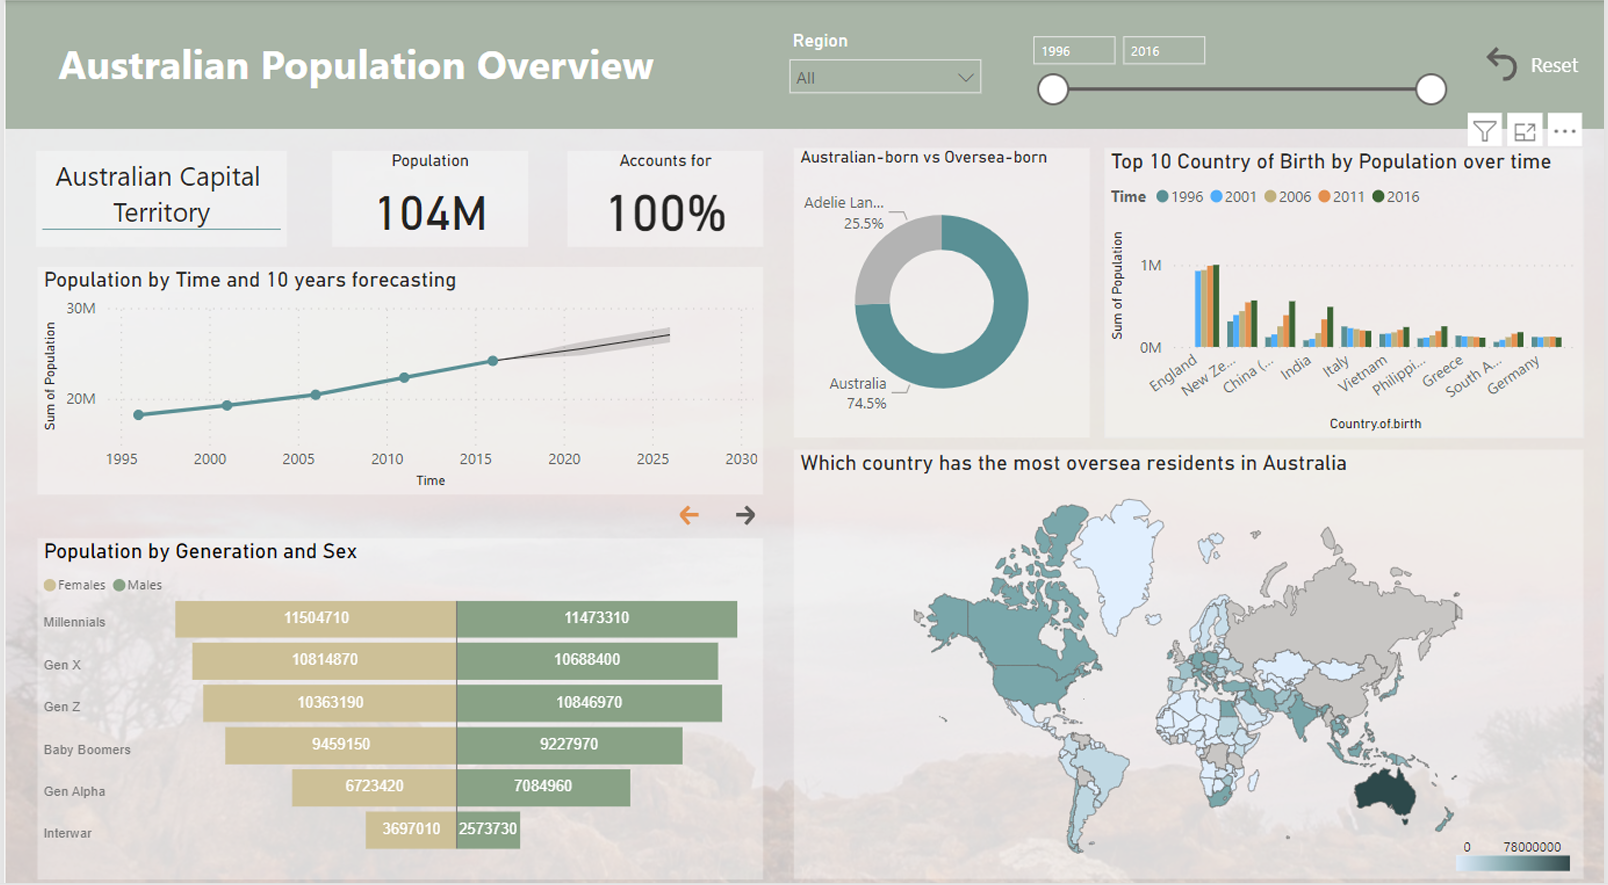

The page's visual inventory and layout, read from the dashboard file:
{"tool":"powerbi","page":{"name":"Dashboard","canvas":[1280,720],"ordinal":0},"visuals":[{"type":"shape","box":[0,0,1280.5,103.4],"z":0},{"type":"TornadoChart1452517688218","title":"Population by Generation and Sex","fields":{"Category":["1996-2016 Aus ERP.Age"],"Series":["1996-2016 Aus ERP.Sex"],"Values":["Sum(1996-2016 Aus ERP.Population)"]},"box":[25.2,430.7,580.7,273.6],"z":0,"group":"g4"},{"type":"group","id":"g1","title":"Group 2","box":[1155.9,663.5,106.7,53.4],"z":0,"group":"g2"},{"type":"image","box":[1155.9,666.1,101.1,51.1],"z":0,"group":"g1"},{"type":"shapeMap","title":"Which country has the most oversea residents in Australia","fields":{"Category":["1996-2016 Aus ERP.Country.of.birth"],"Value":["Sum(1996-2016 Aus ERP.Population)"]},"box":[630.9,360.2,632.1,343.9],"z":1000},{"type":"actionButton","title":"Off-GR","box":[580.1,401,26.4,24],"z":1000,"group":"g3"},{"type":"textbox","box":[1161.3,663.5,101.1,31.4],"z":1000,"group":"g1"},{"type":"slicer","title":"Select a Region","fields":{"Values":["1996-2016 Aus ERP.Select all","1996-2016 Aus ERP.Region"]},"box":[605.9,22.5,228.4,71],"z":2000},{"type":"actionButton","title":"On-GS","box":[535.7,401,29.3,23.9],"z":2000,"group":"g3"},{"type":"lineChart","title":"Population by Time and 10 years forecasting","fields":{"Y":["Sum(1996-2016 Aus ERP.Population)"],"Category":["1996-2016 Aus ERP.Time"]},"box":[25,214.1,581.1,182.1],"z":3000},{"type":"card","title":"Population","fields":{"Values":["Sum(1996-2016 Aus ERP.Population)"]},"box":[261.4,120.8,156.9,76.7],"z":4000},{"type":"donutChart","title":"Australian-born vs Oversea-born","fields":{"Y":["Sum(1996-2016 Aus ERP.Population)"],"Category":["1996-2016 Aus ERP.Oversea-born"]},"box":[630.9,118.5,237,232.4],"z":5000},{"type":"slicer","fields":{"Values":["1996-2016 Aus ERP.Time"]},"box":[834.3,16.6,321.9,81.7],"z":6000},{"type":"textbox","title":"Header","box":[37.2,24.4,527.5,55.8],"z":7000},{"type":"actionButton","box":[1179.4,32.5,83.7,40.7],"z":8000},{"type":"clusteredColumnChart","title":"Top 10 Country of Birth by Population over time","fields":{"Category":["1996-2016 Aus ERP.Country.of.birth"],"Y":["Sum(1996-2016 Aus ERP.Population)"],"Series":["1996-2016 Aus ERP.Time"]},"box":[879.6,118.5,383.4,232.4],"z":9000},{"type":"card","title":"Accounts for","fields":{"Values":["1996-2016 Aus ERP.Population Percentage"]},"box":[449.7,120.8,156.9,76.7],"z":10000},{"type":"group","id":"g2","title":"Map Legend","box":[1155.9,663.5,106.7,53.4],"z":11000},{"type":"textbox","title":"Region selection","box":[24.4,120.8,201,76.7],"z":12000},{"type":"group","id":"g3","title":"Button Switch Chart","box":[535.7,401,70.6,23.9],"z":13000},{"type":"group","id":"g4","title":"Chart need to switch","box":[25.2,430.7,580.7,273.6],"z":14000},{"type":"actionButton","box":[1230.1,365.7,39.5,30.1],"z":15000}]}

Visuals, with their boxes in screenshot pixels (x1, y1, x2, y2), scaled from the page's 1280x720 canvas onto the 1608x885 screenshot:
shape: {"x1": 0, "y1": 0, "x2": 1607, "y2": 127}
"Population by Generation and Sex" TornadoChart1452517688218: {"x1": 32, "y1": 529, "x2": 761, "y2": 866}
"Group 2" group: {"x1": 1452, "y1": 816, "x2": 1586, "y2": 881}
image: {"x1": 1452, "y1": 819, "x2": 1579, "y2": 882}
"Which country has the most oversea residents in Australia" shapeMap: {"x1": 793, "y1": 443, "x2": 1587, "y2": 865}
"Off-GR" actionButton: {"x1": 729, "y1": 493, "x2": 762, "y2": 522}
textbox: {"x1": 1459, "y1": 816, "x2": 1586, "y2": 854}
"Select a Region" slicer: {"x1": 761, "y1": 28, "x2": 1048, "y2": 115}
"On-GS" actionButton: {"x1": 673, "y1": 493, "x2": 710, "y2": 522}
"Population by Time and 10 years forecasting" lineChart: {"x1": 31, "y1": 263, "x2": 761, "y2": 487}
"Population" card: {"x1": 328, "y1": 148, "x2": 525, "y2": 243}
"Australian-born vs Oversea-born" donutChart: {"x1": 793, "y1": 146, "x2": 1090, "y2": 431}
slicer - 1996-2016 Aus ERP.Time: {"x1": 1048, "y1": 20, "x2": 1452, "y2": 121}
"Header" textbox: {"x1": 47, "y1": 30, "x2": 709, "y2": 99}
actionButton: {"x1": 1482, "y1": 40, "x2": 1587, "y2": 90}
"Top 10 Country of Birth by Population over time" clusteredColumnChart: {"x1": 1105, "y1": 146, "x2": 1587, "y2": 431}
"Accounts for" card: {"x1": 565, "y1": 148, "x2": 762, "y2": 243}
"Map Legend" group: {"x1": 1452, "y1": 816, "x2": 1586, "y2": 881}
"Region selection" textbox: {"x1": 31, "y1": 148, "x2": 283, "y2": 243}
"Button Switch Chart" group: {"x1": 673, "y1": 493, "x2": 762, "y2": 522}
"Chart need to switch" group: {"x1": 32, "y1": 529, "x2": 761, "y2": 866}
actionButton: {"x1": 1545, "y1": 450, "x2": 1595, "y2": 487}
